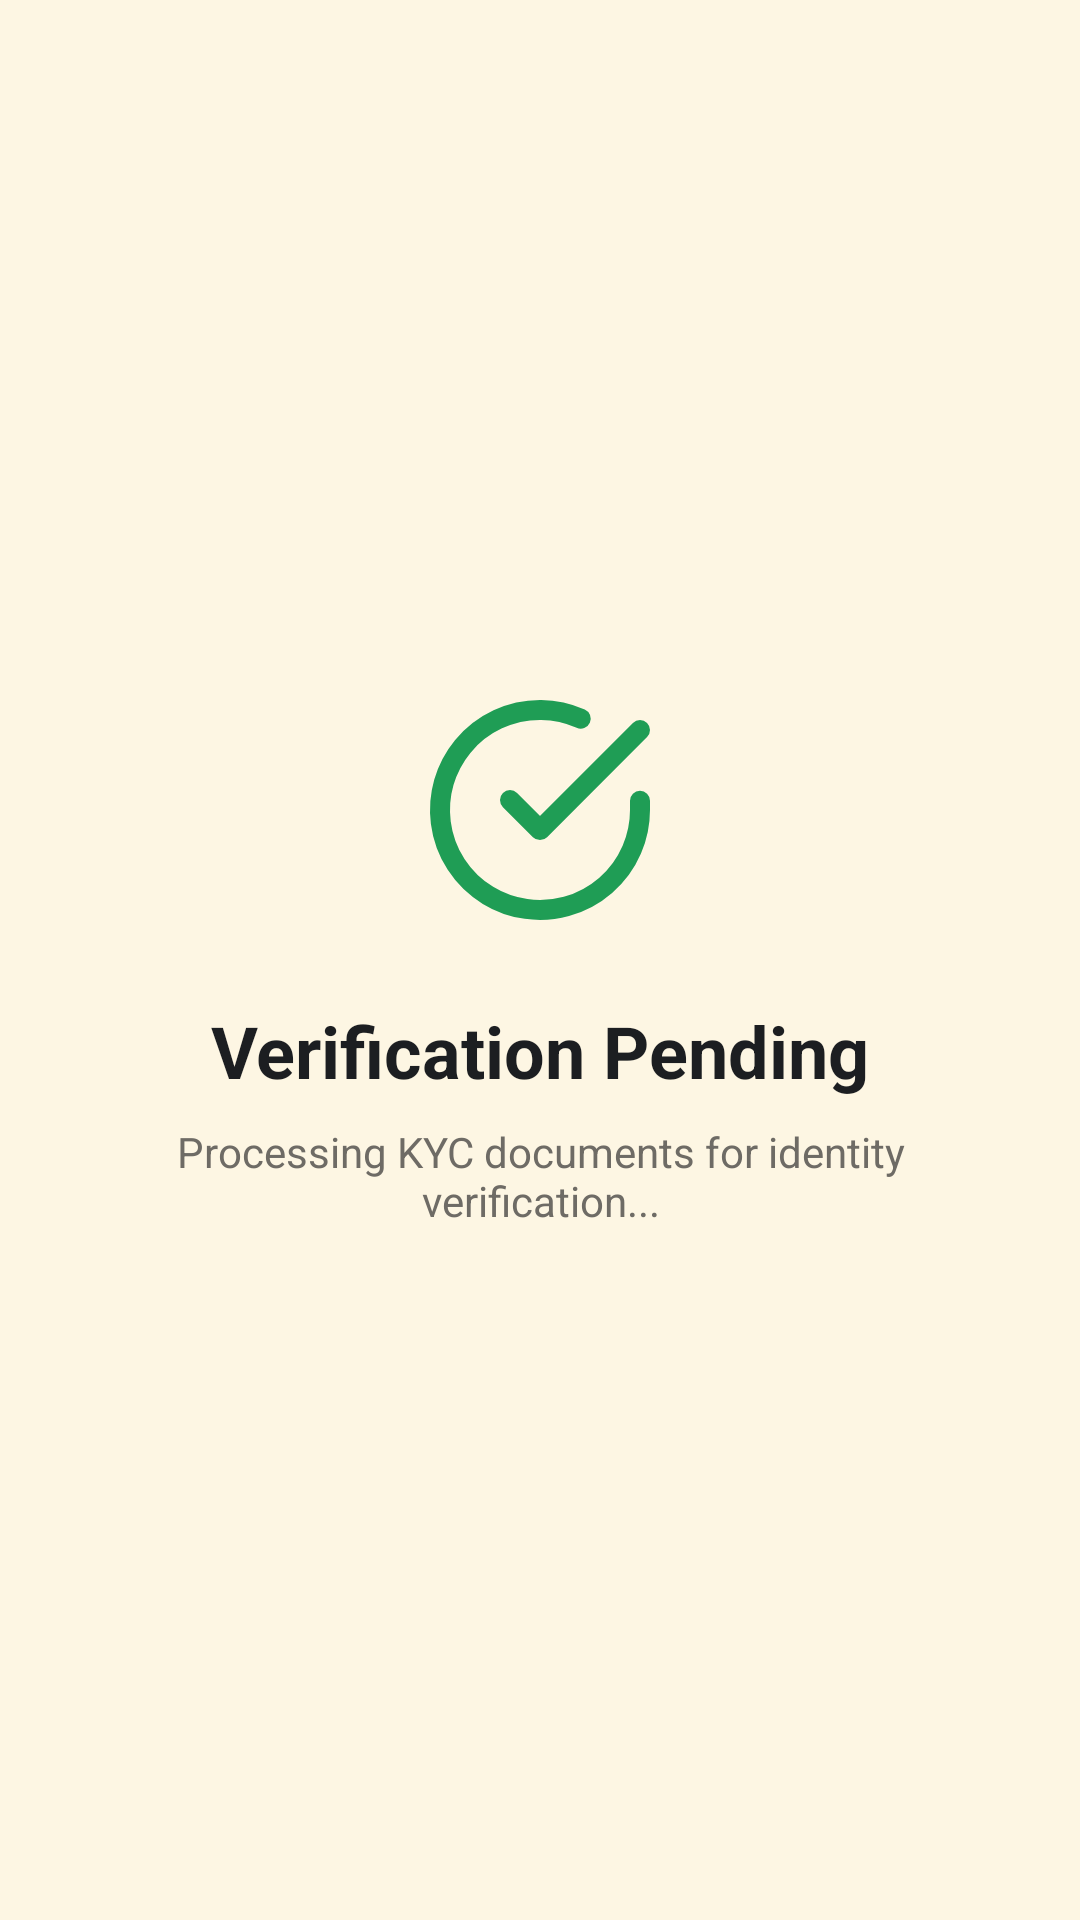

Point at icon controls on the screen. Image size 1080*1920, points as [x,y].
check circle: [540,810]
